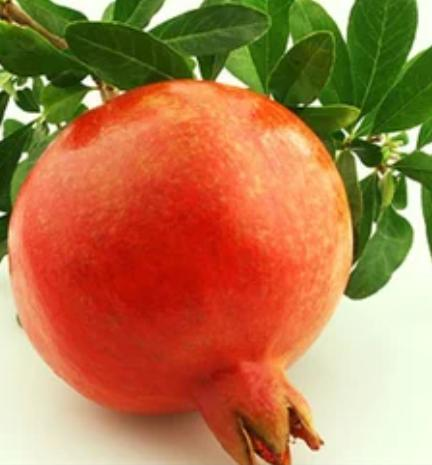pomegranate_A: (6, 78, 353, 465)
